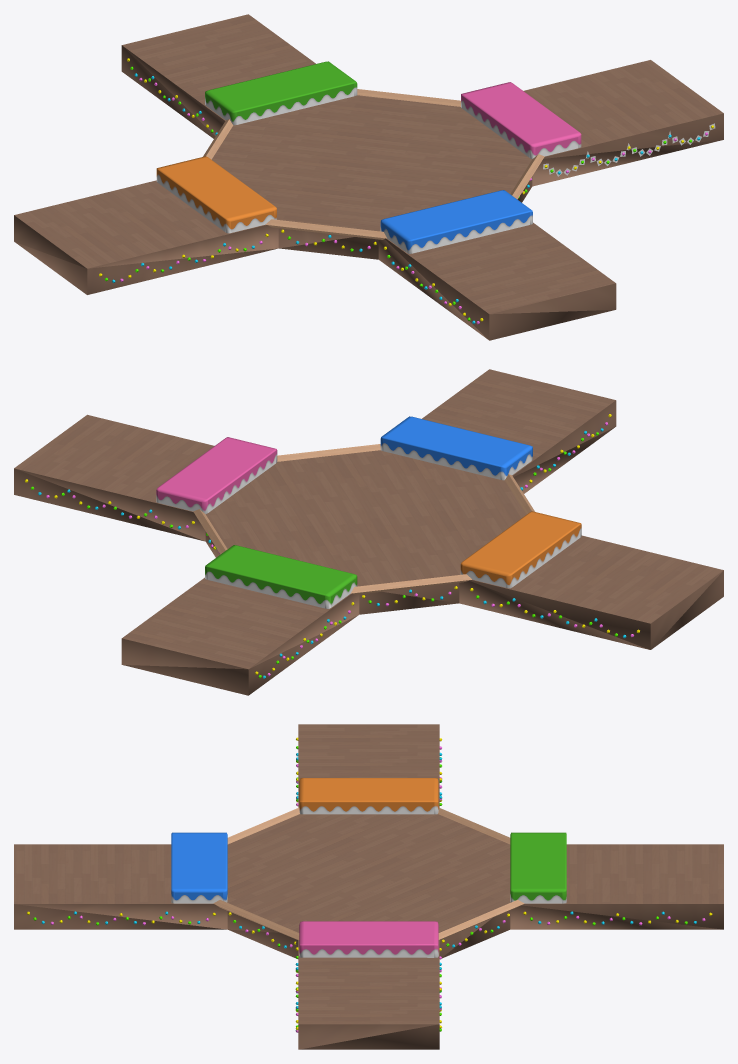
The model's file is stage.fbx.
3 views of the same model, one above another, from view 1: azimuth 30°, elevation 25°; view 2: azimuth 150°, elevation 25°; view 3: azimuth 270°, elevation 25° (orthographic). The views are drawn at different scales.
Visible parts, largest first — view 1: Floor, Cube, Edge, Icosphere.025, Plane; view 2: Floor, Cube, Edge, Icosphere.025; view 3: Floor, Cube, Edge, Icosphere.025.
Boxes of the visible parts, x1=… form: Floor: x1=14, y1=14, x2=723, y2=340; Cube: x1=156, y1=61, x2=581, y2=253; Edge: x1=203, y1=89, x2=544, y2=239; Icosphere.025: x1=99, y1=58, x2=713, y2=324; Plane: x1=543, y1=123, x2=715, y2=176; Floor: x1=14, y1=369, x2=723, y2=695; Cube: x1=156, y1=416, x2=581, y2=608; Edge: x1=193, y1=444, x2=534, y2=594; Icosphere.025: x1=25, y1=414, x2=639, y2=678; Floor: x1=14, y1=724, x2=723, y2=1049; Cube: x1=171, y1=778, x2=566, y2=957; Edge: x1=213, y1=807, x2=524, y2=939; Icosphere.025: x1=27, y1=737, x2=712, y2=1032.
Bounding box in the file's own units: 5650 × 339 × 5650.
Materials: 1 (1 with a texture image).
